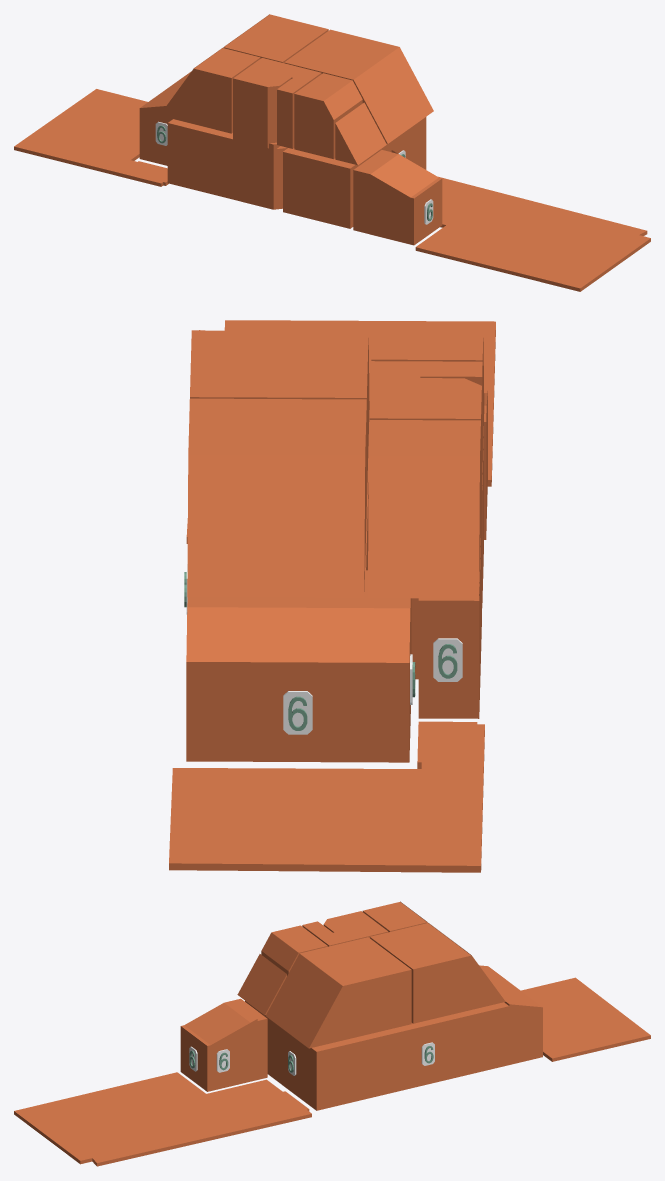
The picture shows the model from 3 angles, top to bottom: view 1: azimuth 30°, elevation 25°; view 2: azimuth 150°, elevation 25°; view 3: azimuth 270°, elevation 25°; orthographic projection. The views are drawn at different scales.
Visible parts, largest first — view 1: g_13, g_14, g_7, g_5, g_0, g_9, g_4, g_6, g_2, g_11, g_8, g_10 (+2 smaller); view 2: g_1, g_8, g_14, g_9, g_7, g_4, g_10, g_13, g_6, g_11, g_28, g_18; view 3: g_13, g_7, g_1, g_0, g_8, g_5, g_14, g_6, g_12, g_10, g_9, g_11.
Boxes of the visible parts, bbox=[...] form: g_13: bbox=[415, 176, 650, 291]; g_14: bbox=[14, 89, 168, 186]; g_7: bbox=[284, 29, 433, 143]; g_5: bbox=[353, 150, 442, 245]; g_0: bbox=[283, 117, 426, 228]; g_9: bbox=[159, 48, 260, 133]; g_4: bbox=[167, 119, 232, 198]; g_6: bbox=[294, 73, 362, 159]; g_2: bbox=[231, 134, 287, 209]; g_11: bbox=[233, 70, 291, 142]; g_8: bbox=[223, 14, 328, 62]; g_10: bbox=[245, 58, 321, 148]; g_1: bbox=[186, 490, 411, 762]; g_8: bbox=[187, 398, 366, 597]; g_14: bbox=[169, 721, 484, 872]; g_9: bbox=[368, 420, 480, 598]; g_7: bbox=[190, 330, 369, 506]; g_4: bbox=[411, 540, 480, 718]; g_10: bbox=[369, 361, 482, 485]; g_13: bbox=[186, 320, 495, 543]; g_6: bbox=[371, 331, 483, 461]; g_11: bbox=[419, 378, 481, 523]; g_28: bbox=[433, 638, 462, 681]; g_18: bbox=[283, 691, 312, 734]; g_13: bbox=[14, 1072, 311, 1166]; g_7: bbox=[265, 937, 411, 1048]; g_1: bbox=[379, 965, 542, 1094]; g_0: bbox=[245, 1001, 383, 1110]; g_8: bbox=[370, 923, 505, 1023]; g_5: bbox=[180, 998, 267, 1091]; g_14: bbox=[521, 977, 650, 1061]; g_6: bbox=[261, 925, 327, 975]; g_12: bbox=[237, 954, 286, 1015]; g_10: bbox=[302, 919, 388, 946]; g_9: bbox=[362, 901, 427, 932]; g_11: bbox=[323, 911, 371, 932].
Size of the model in its own units: 17.37 by 5.36 by 25.2.
